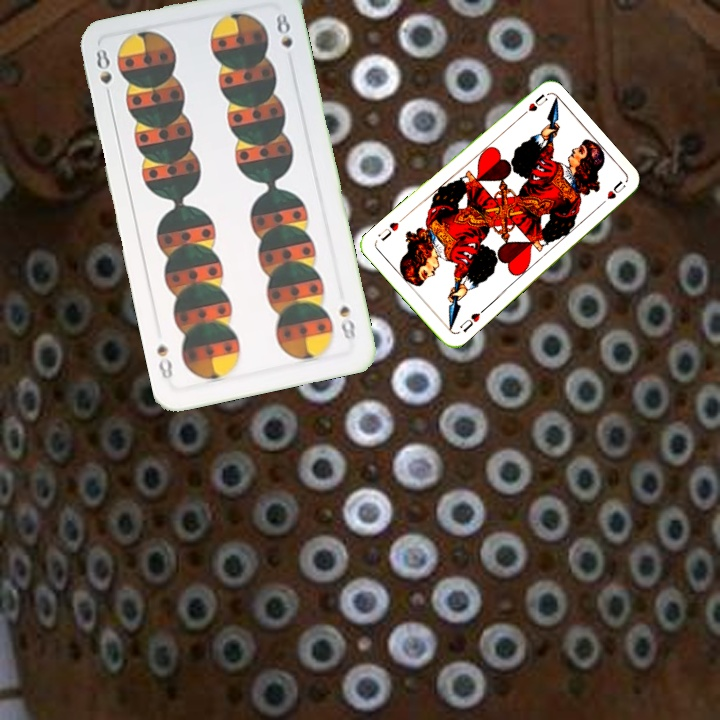HU: (515, 90, 550, 121), (456, 305, 487, 335)
S8: (92, 44, 115, 87), (335, 302, 358, 342)
